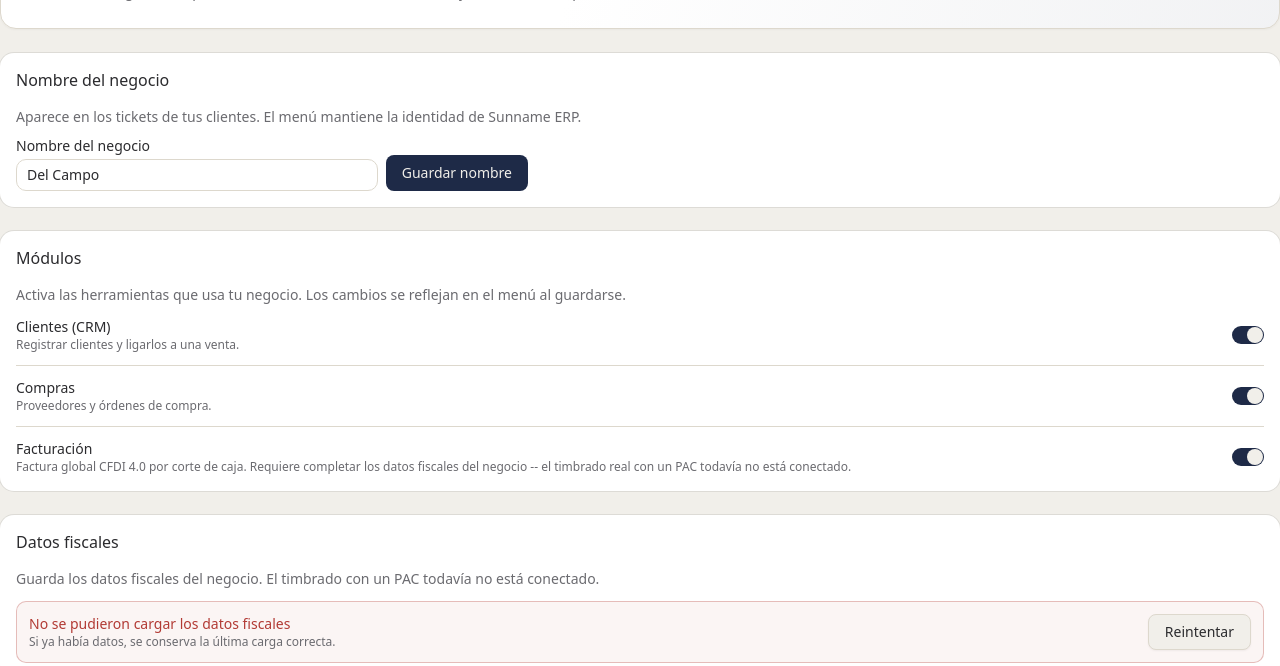
Test case: Configuración segura › un fallo de lectura fiscal no muestra campos vacíos editables; reintentar recupera los datos
(page scrolled)
Expected: the text "No se pudieron cargar los datos fiscales" is shown, top-left (29, 614), bottom-right (336, 634)
Expected: the field labelled "RFC" is not shown
Click the button "Reintentar".
click(1199, 632)  # box top-left (1148, 614), bottom-right (1251, 650)
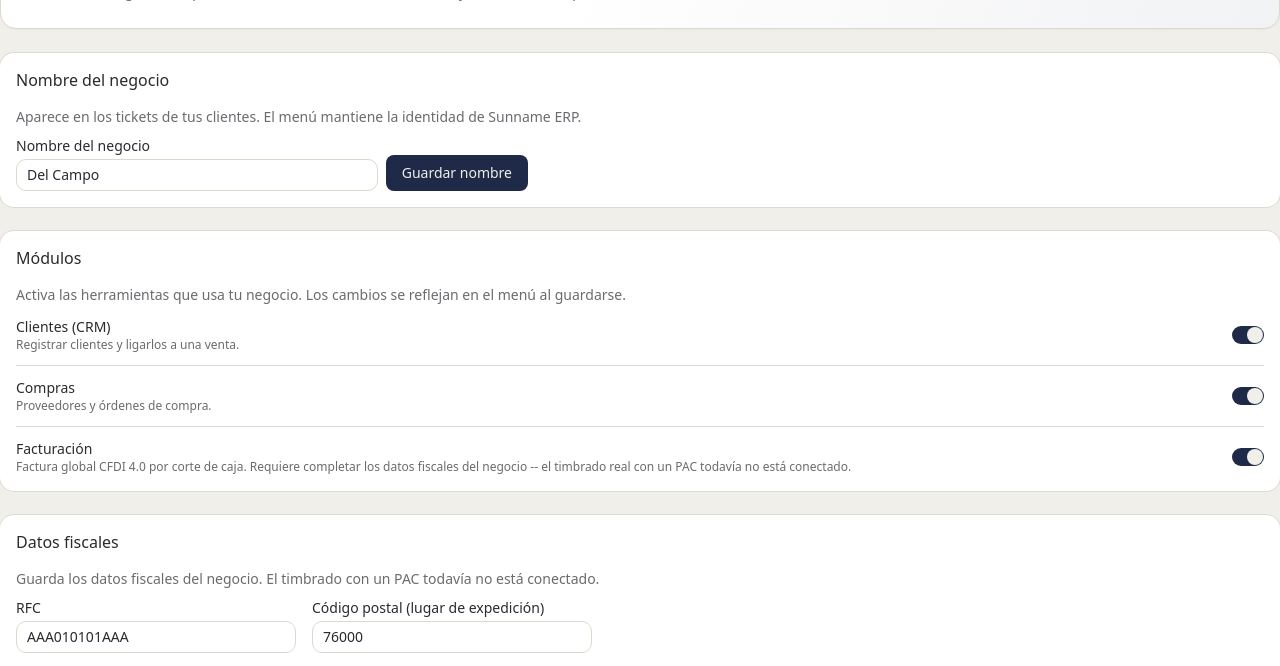
Expected: the field labelled "RFC" holds "AAA010101AAA", top-left (16, 621), bottom-right (296, 653)
